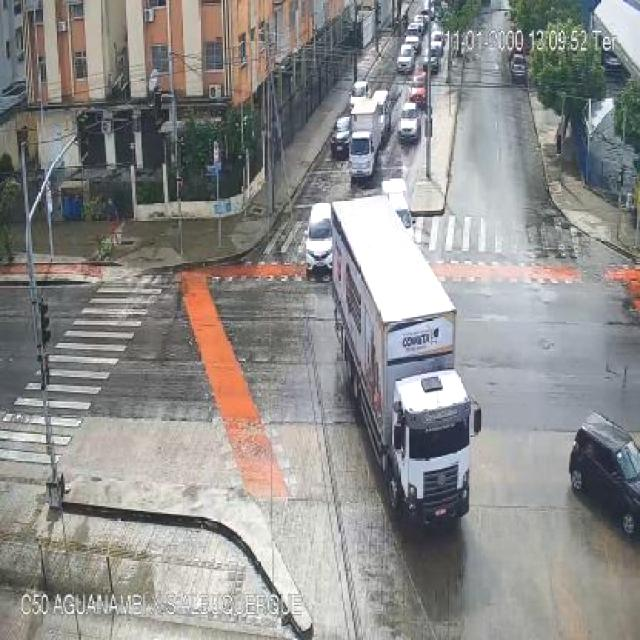Car: (561, 409, 639, 531), (302, 201, 333, 270), (392, 105, 425, 148), (333, 113, 353, 159), (408, 72, 434, 102), (394, 43, 417, 72), (350, 80, 374, 102), (404, 23, 425, 43), (422, 48, 441, 70)
Truck: (327, 209, 479, 545), (344, 106, 384, 180)
